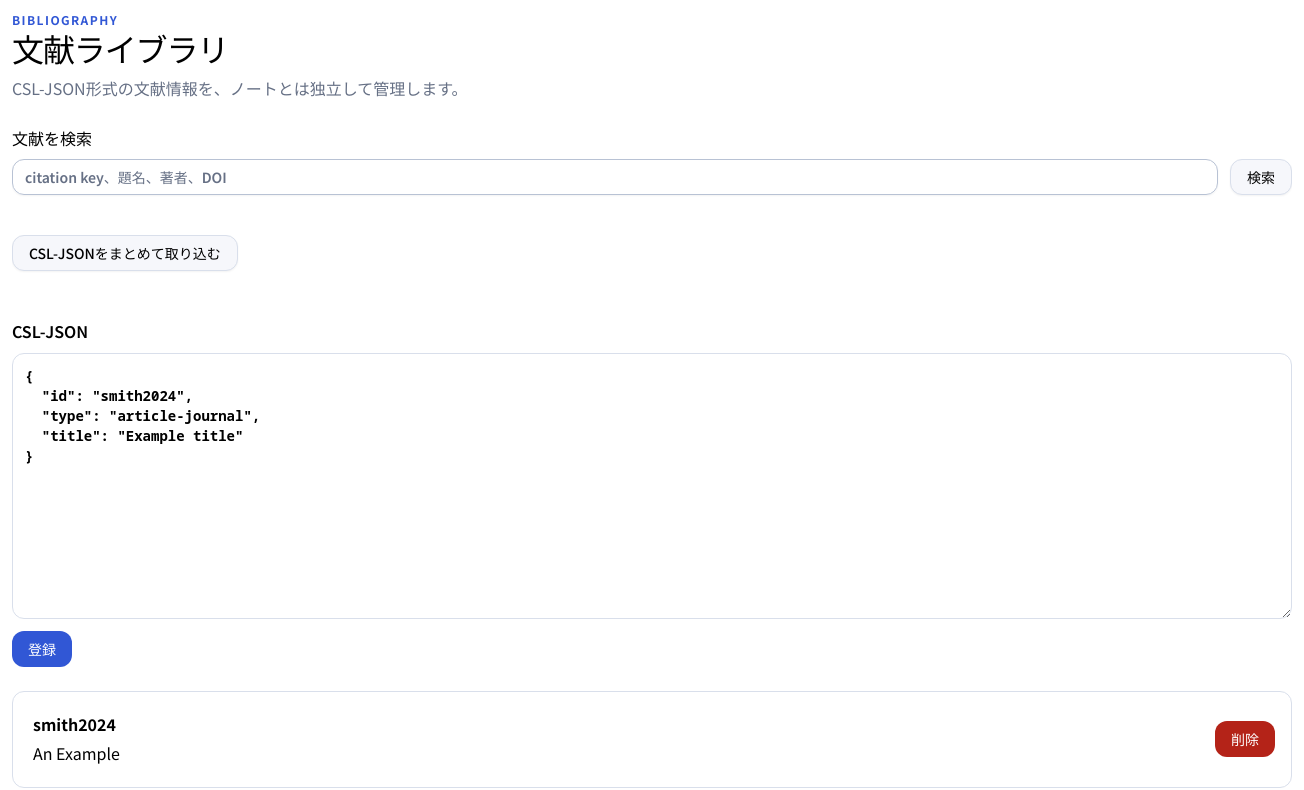
Test: 登録後の一覧再読込でも成功通知を保持する
This screenshot has width=1304, height=790.
Expected: the button "smith2024 An Example" is shown, [29, 708, 124, 771]
Step 1. Click the button "登録" → (42, 649), box [12, 631, 72, 667]
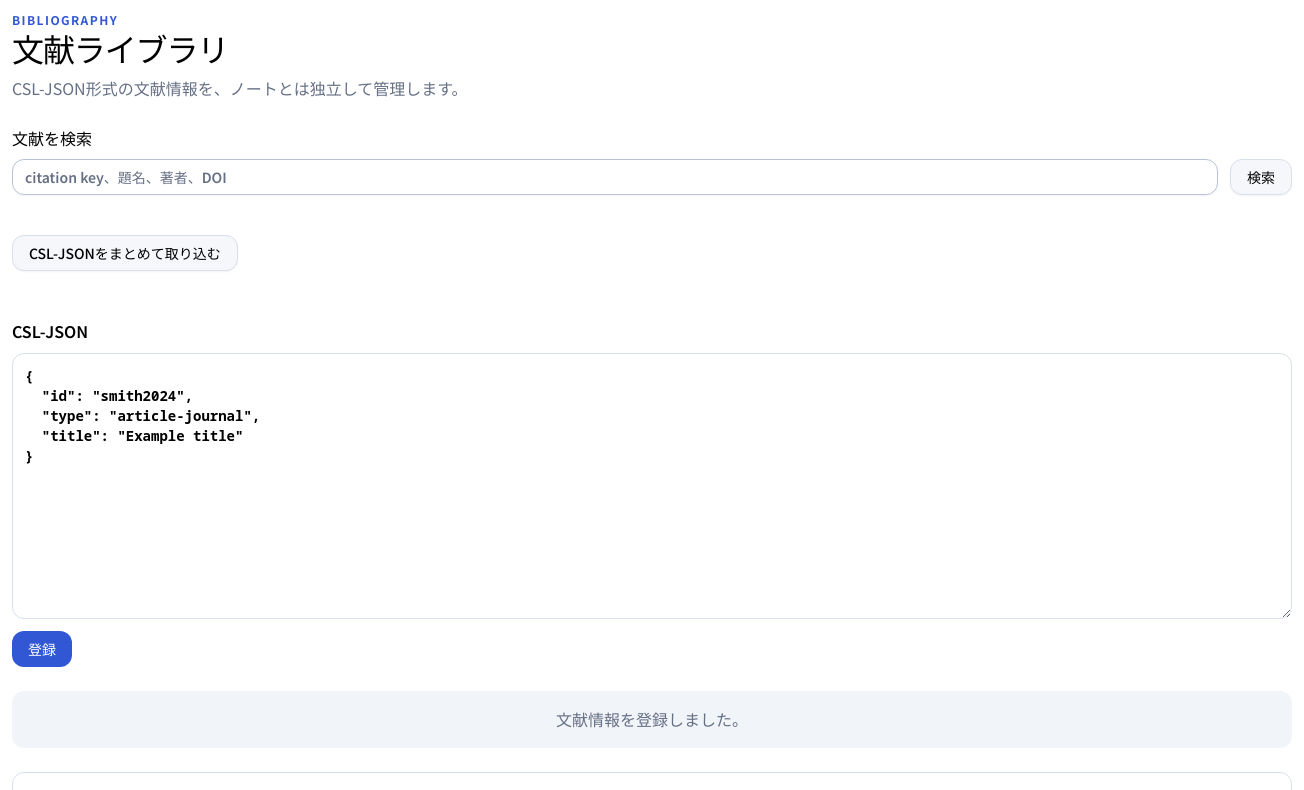
Expected: the text "文献情報を登録しました。" is shown, [12, 691, 1292, 748]
